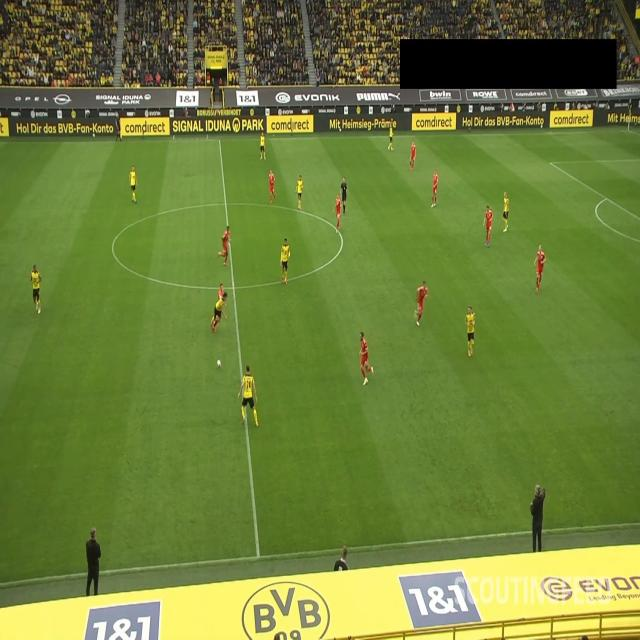ball: (216, 359, 222, 370)
